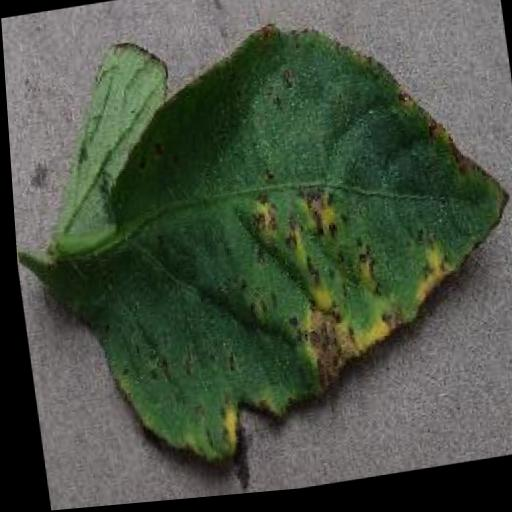Bacterial Spot: (24, 0, 512, 500)
